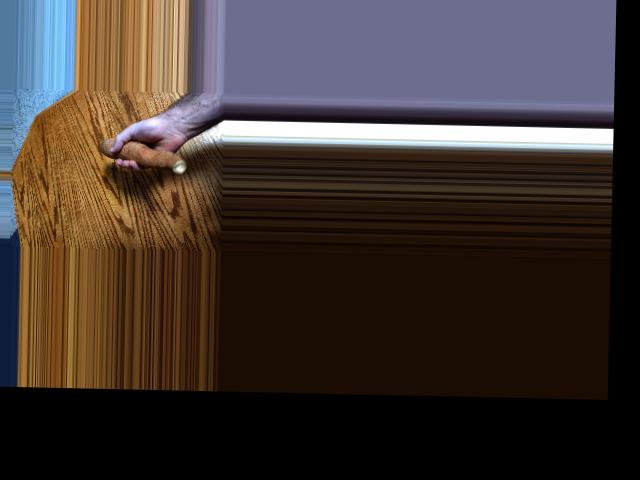sweet_potato: (106, 133, 194, 170)
